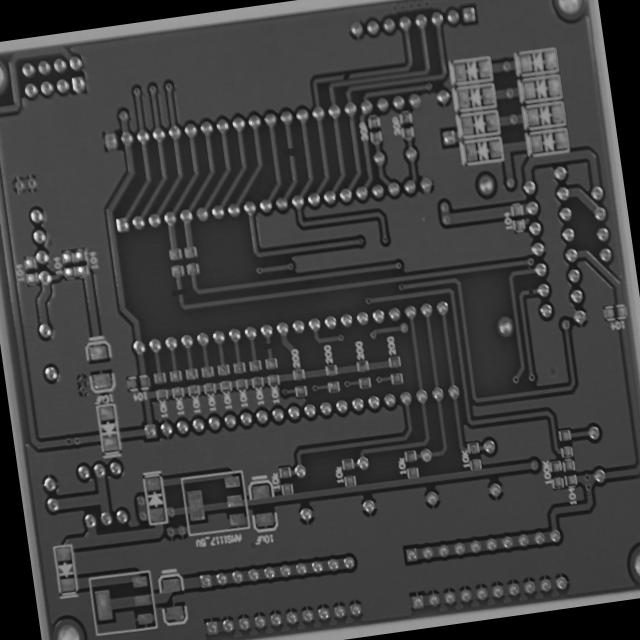open_circuit: (172, 286, 188, 298), (285, 146, 297, 160), (340, 70, 353, 82), (524, 286, 536, 298), (264, 340, 275, 352)
